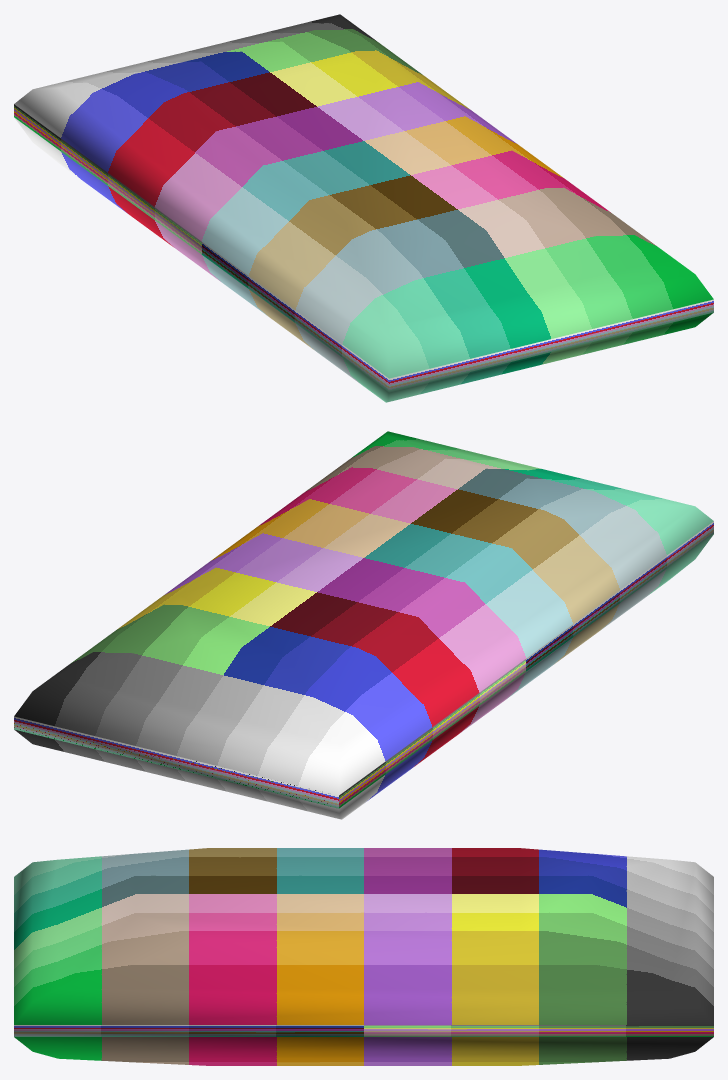
Rendered from Bag.fbx.
The picture shows the model from 3 angles, top to bottom: view 1: azimuth 30°, elevation 25°; view 2: azimuth 150°, elevation 25°; view 3: azimuth 270°, elevation 25°; orthographic projection. The views are drawn at different scales.
Parts seen in each view (by area): view 1: Bag; view 2: Bag; view 3: Bag.
Part boxes in pixels (box(x1,y1,x2,y2)): Bag: box(14, 14, 713, 402); Bag: box(14, 431, 713, 819); Bag: box(14, 848, 713, 1065).
Size of the model in its own units: 2.5 by 5 by 0.9905.
